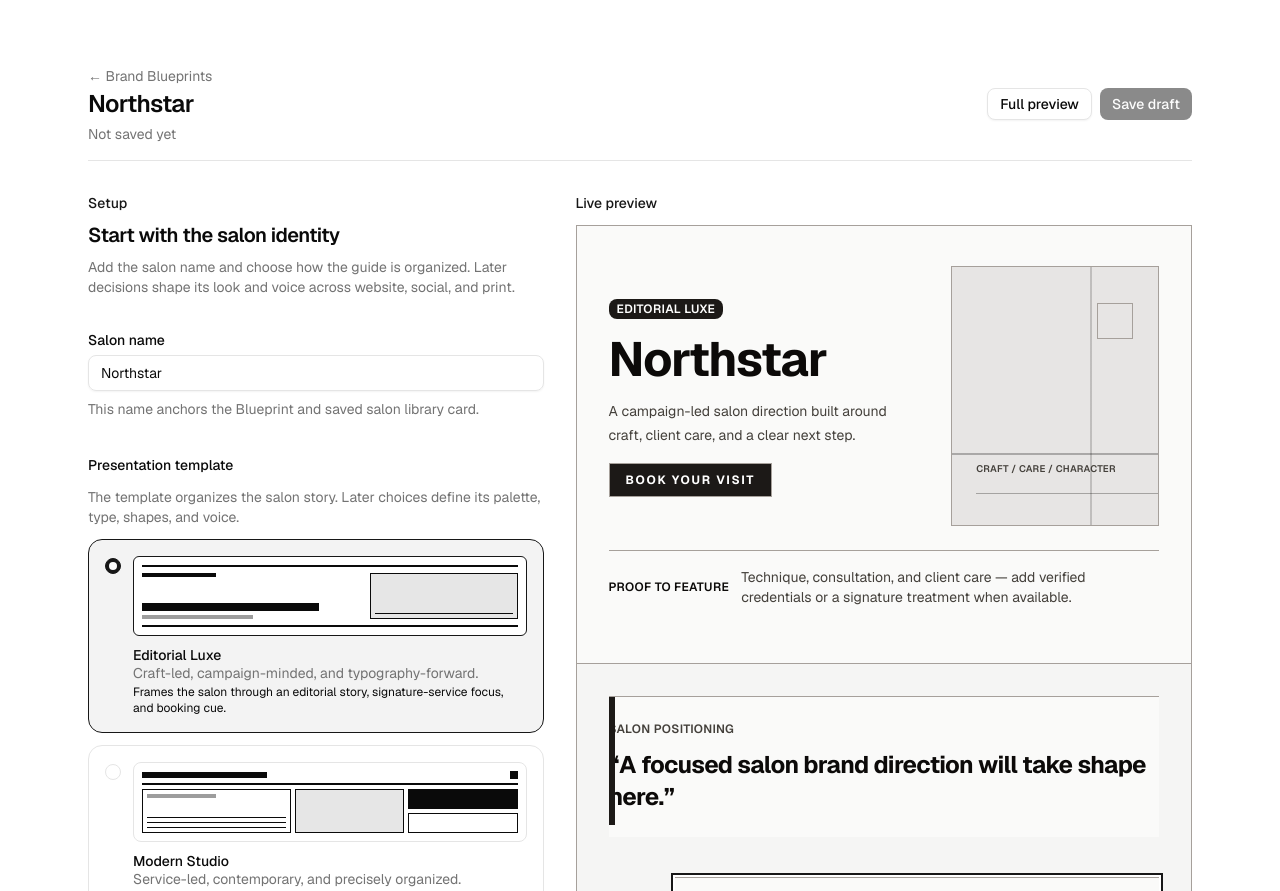
Test case: BlueprintWorkspace › uses the returned saved record and routes a new blueprint to its addressable URL
Replace the text in the field labelled "Salon name" with "Northstar Studio" at (316, 373), box [88, 355, 544, 391]
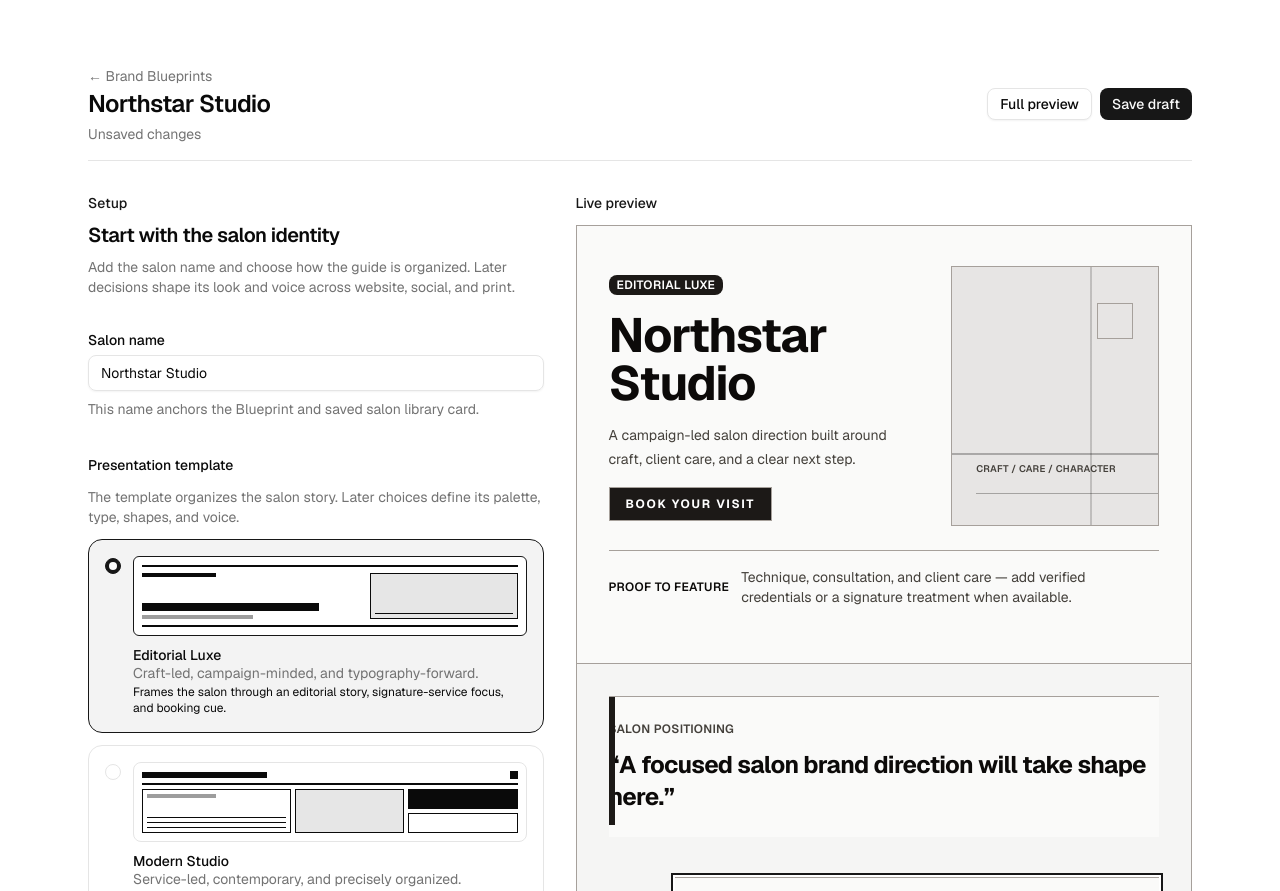
Click the button "Save draft" at (1146, 104), box [1100, 88, 1192, 120]
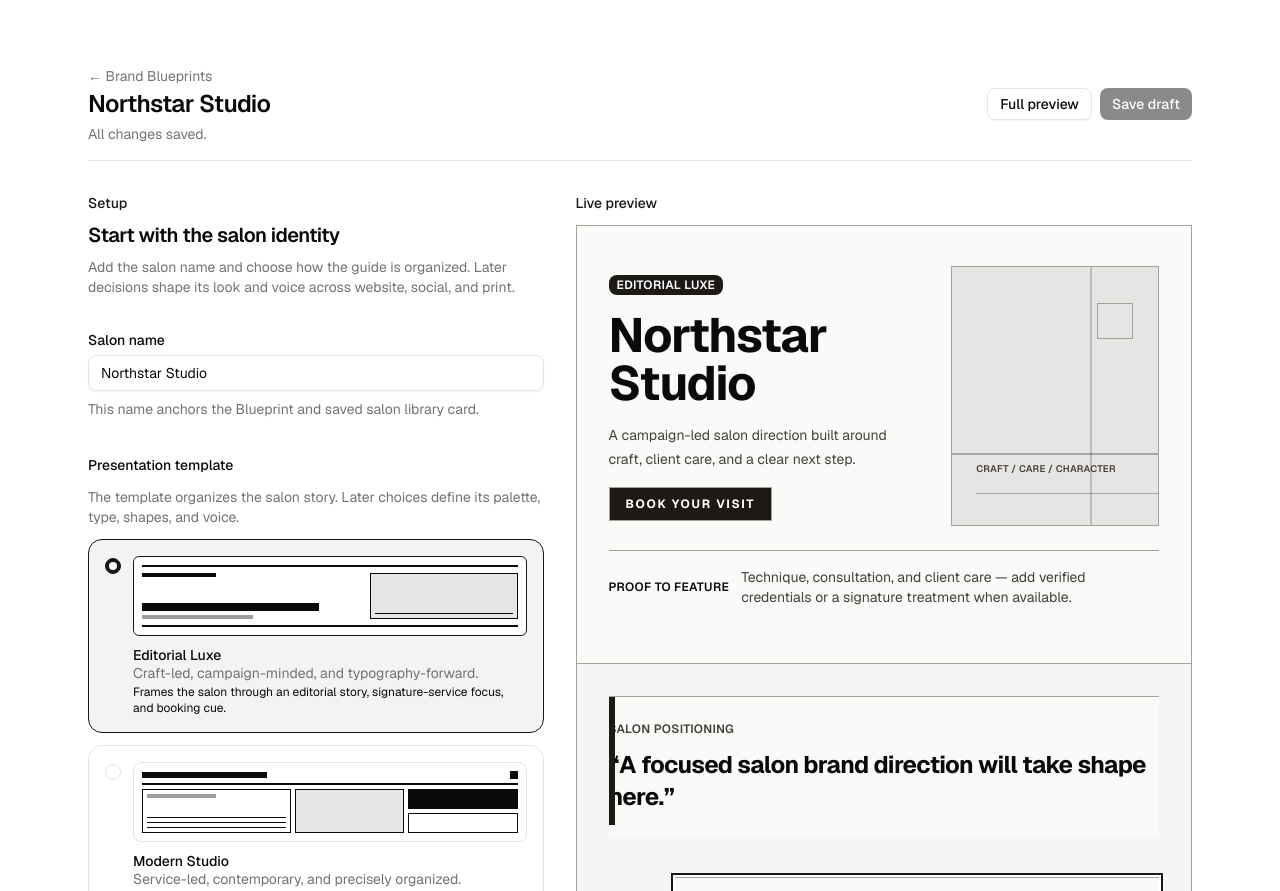
Check: the text "All changes saved." is shown, box [88, 125, 206, 143]
